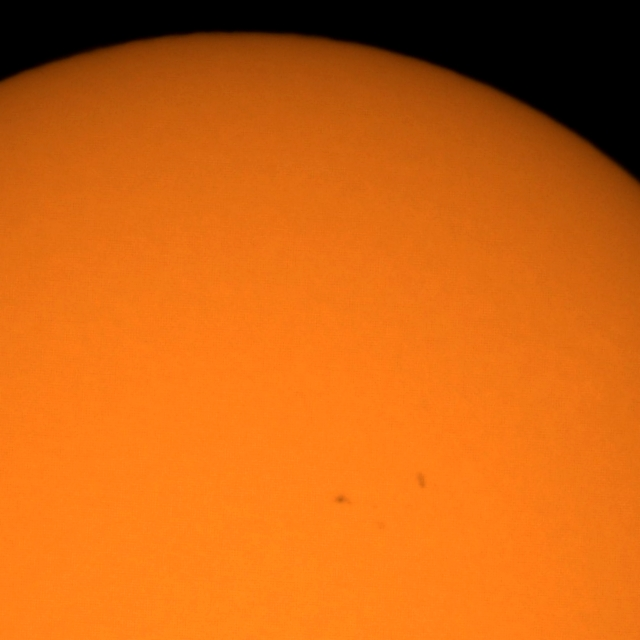sunspot: (414, 469, 429, 493), (332, 493, 353, 508)
